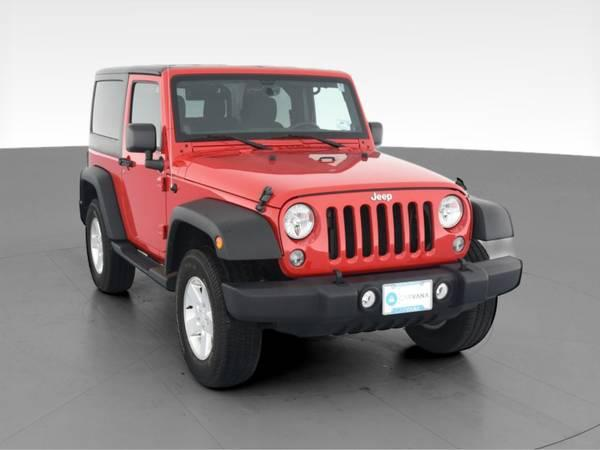Front_Bumper: (223, 257, 522, 335)
Front_Fender: (165, 175, 283, 263), (470, 196, 516, 247)
Front_Right_Door: (120, 150, 166, 263)
Front_Right_Window: (124, 78, 166, 154)
Front_Windshield: (176, 74, 379, 157)
Grille: (278, 188, 474, 276)
Hood: (170, 150, 467, 210)
Left_Headlight: (435, 191, 465, 230)
Rear_Fender: (79, 77, 128, 240)
Right_Headlight: (280, 201, 319, 240)
Roof: (99, 61, 354, 173)
Wheel: (168, 251, 256, 390), (406, 299, 502, 358), (84, 200, 134, 293)
